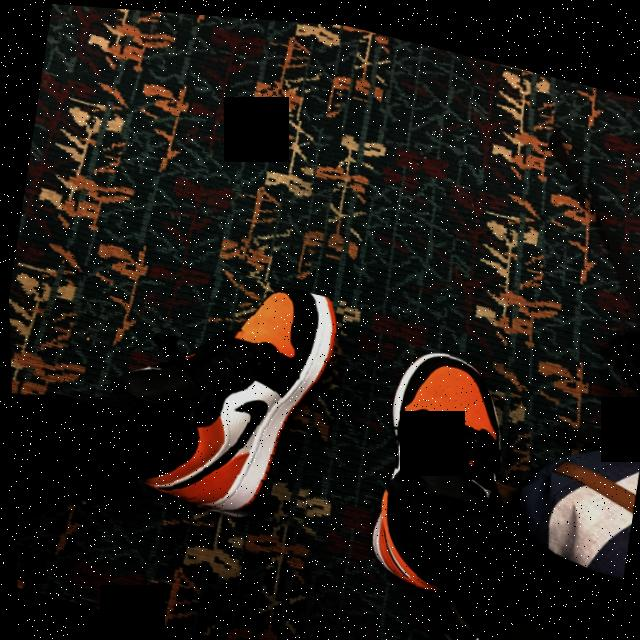shoe: (103, 247, 350, 536), (355, 329, 529, 601)
